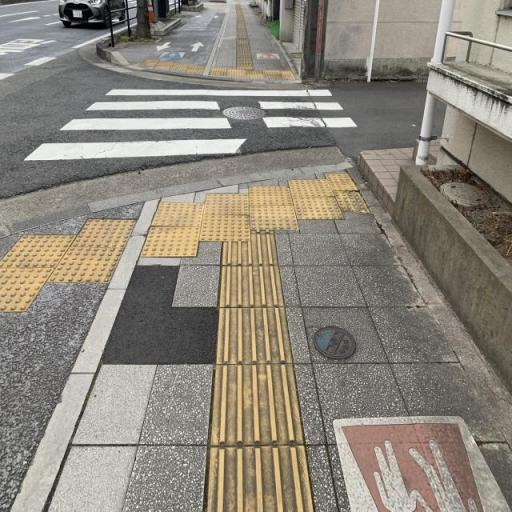line: (212, 364, 306, 444), (205, 445, 314, 511), (216, 306, 293, 364), (219, 264, 285, 307)
